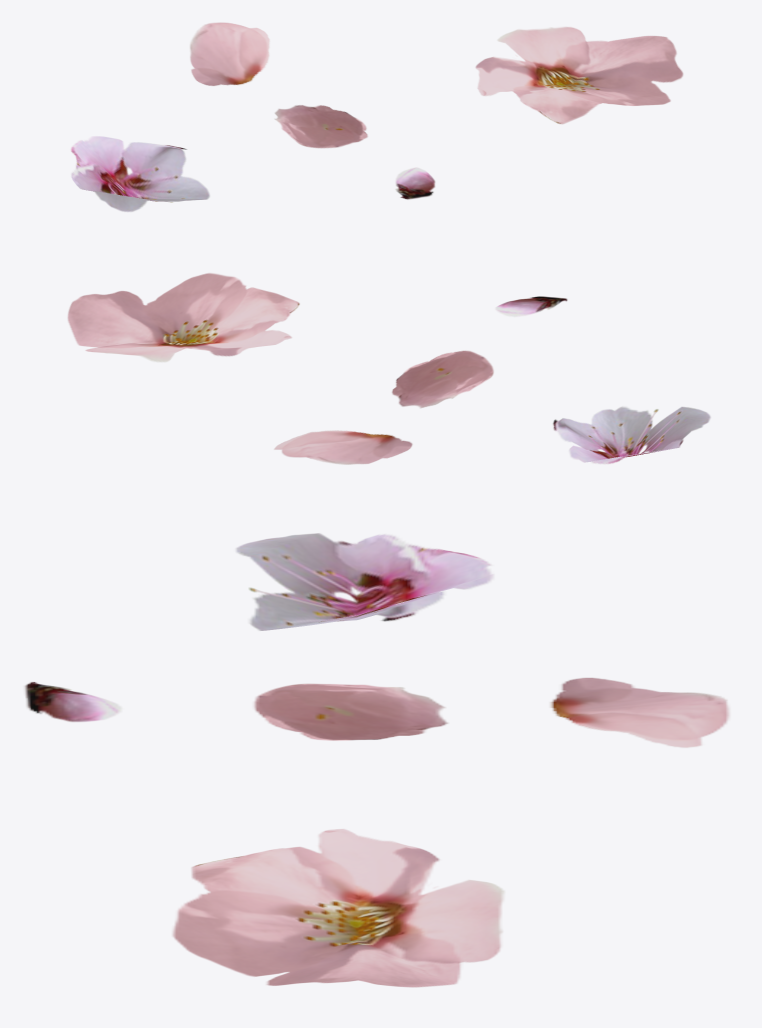
The model's file is cherry_petals2.glb.
3 views of the same model, one above another, from view 1: azimuth 30°, elevation 25°; view 2: azimuth 150°, elevation 25°; view 3: azimuth 270°, elevation 25° (orthographic). The views are drawn at different scales.
Parts seen in each view (by area): view 1: flower_1, flower_2, petal_1, petal_2, bud; view 2: flower_1, flower_2, petal_2, petal_1, bud; view 3: flower_1, flower_2, petal_2, petal_1, bud.
Boxes of the visible parts, bbox=[...] form: flower_1: bbox=[475, 26, 683, 124]; flower_2: bbox=[70, 136, 209, 212]; petal_1: bbox=[189, 22, 270, 86]; petal_2: bbox=[274, 105, 368, 148]; bud: bbox=[395, 167, 435, 199]; flower_1: bbox=[67, 273, 299, 362]; flower_2: bbox=[552, 406, 710, 464]; petal_2: bbox=[391, 350, 493, 408]; petal_1: bbox=[273, 430, 412, 464]; bud: bbox=[495, 296, 567, 317]; flower_1: bbox=[172, 828, 505, 987]; flower_2: bbox=[235, 533, 494, 630]; petal_2: bbox=[254, 683, 449, 740]; petal_1: bbox=[549, 677, 730, 748]; bud: bbox=[24, 681, 122, 721].
Bounding box in the file's own units: 205 × 12.75 × 136.
Materials: 5 (5 with a texture image).
